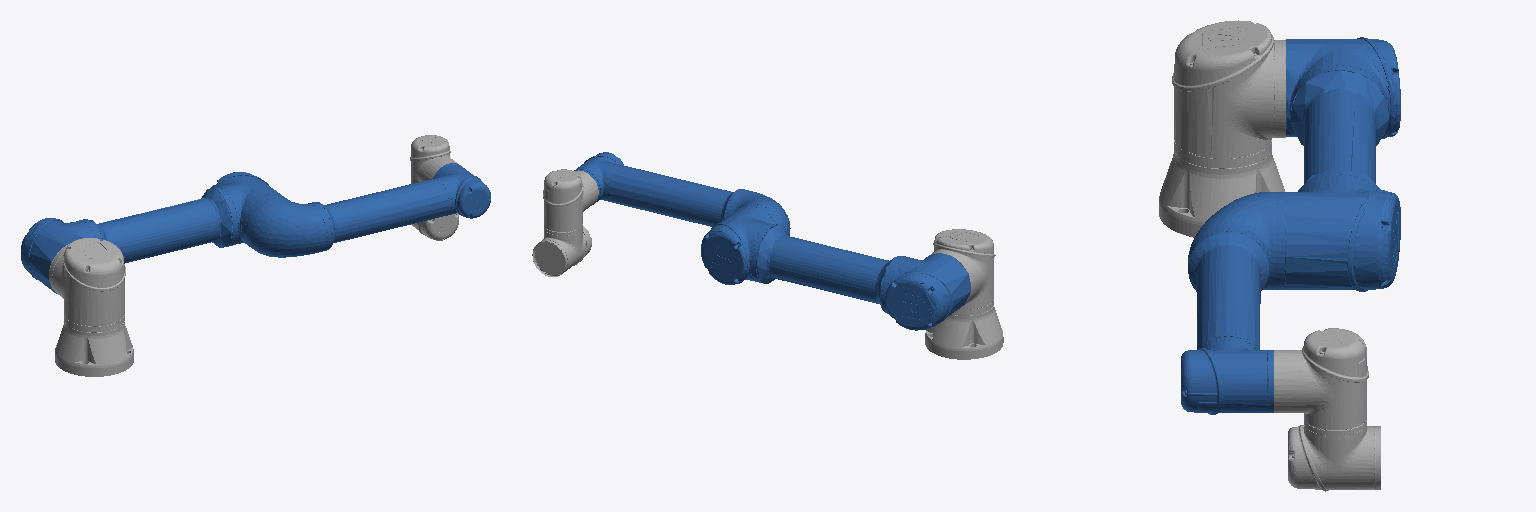
robot.urdf — ur5e:
<?xml version="1.0"?>
<!--
  UR5e for Electronics Playground (browser).
  Joint origins: UniversalRobots/Universal_Robots_ROS2_Description default_kinematics.yaml
  Mesh offsets: visual_parameters.yaml (official visual DAE to binary STL)
  License: BSD-3-Clause. See LICENSE.
-->
<robot name="ur5e">
  <material name="ur_grey"><color rgba="0.7 0.7 0.7 1"/></material>
  <material name="ur_blue"><color rgba="0.25 0.45 0.7 1"/></material>

  <link name="base_link"/>

  <link name="base_link_inertia">
    <visual>
      <origin xyz="0 0 0" rpy="0 0 3.141592653589793"/>
      <geometry><mesh filename="meshes/base.stl"/></geometry>
      <material name="ur_grey"/>
    </visual>
  </link>

  <joint name="base_link-base_link_inertia" type="fixed">
    <parent link="base_link"/>
    <child link="base_link_inertia"/>
    <origin xyz="0 0 0" rpy="0 0 3.141592653589793"/>
  </joint>

  <link name="shoulder_link">
    <visual>
      <origin xyz="0 0 0" rpy="0 0 3.141592653589793"/>
      <geometry><mesh filename="meshes/shoulder.stl"/></geometry>
      <material name="ur_grey"/>
    </visual>
  </link>

  <link name="upper_arm_link">
    <visual>
      <origin xyz="0 0 0.138" rpy="1.5707963267948966 0 -1.5707963267948966"/>
      <geometry><mesh filename="meshes/upperarm.stl"/></geometry>
      <material name="ur_blue"/>
    </visual>
  </link>

  <link name="forearm_link">
    <visual>
      <origin xyz="0 0 0.007" rpy="1.5707963267948966 0 -1.5707963267948966"/>
      <geometry><mesh filename="meshes/forearm.stl"/></geometry>
      <material name="ur_blue"/>
    </visual>
  </link>

  <link name="wrist_1_link">
    <visual>
      <origin xyz="0 0 -0.127" rpy="1.5707963267948966 0 0"/>
      <geometry><mesh filename="meshes/wrist1.stl"/></geometry>
      <material name="ur_grey"/>
    </visual>
  </link>

  <link name="wrist_2_link">
    <visual>
      <origin xyz="0 0 -0.0997" rpy="0 0 0"/>
      <geometry><mesh filename="meshes/wrist2.stl"/></geometry>
      <material name="ur_grey"/>
    </visual>
  </link>

  <link name="wrist_3_link">
    <visual>
      <origin xyz="0 -0.0005 -0.0989" rpy="1.5707963267948966 0 0"/>
      <geometry><mesh filename="meshes/wrist3.stl"/></geometry>
      <material name="ur_blue"/>
    </visual>
  </link>

  <link name="flange"/>
  <link name="tool0"/>

  <joint name="shoulder_pan_joint" type="revolute">
    <parent link="base_link_inertia"/>
    <child link="shoulder_link"/>
    <origin xyz="0 0 0.1625" rpy="0 0 0"/>
    <axis xyz="0 0 1"/>
    <limit lower="-6.28318530718" upper="6.28318530718" effort="150" velocity="3.14"/>
  </joint>

  <joint name="shoulder_lift_joint" type="revolute">
    <parent link="shoulder_link"/>
    <child link="upper_arm_link"/>
    <origin xyz="0 0 0" rpy="1.570796327 0 0"/>
    <axis xyz="0 0 1"/>
    <limit lower="-6.28318530718" upper="6.28318530718" effort="150" velocity="3.14"/>
  </joint>

  <joint name="elbow_joint" type="revolute">
    <parent link="upper_arm_link"/>
    <child link="forearm_link"/>
    <origin xyz="-0.425 0 0" rpy="0 0 0"/>
    <axis xyz="0 0 1"/>
    <limit lower="-3.14159265359" upper="3.14159265359" effort="150" velocity="3.14"/>
  </joint>

  <joint name="wrist_1_joint" type="revolute">
    <parent link="forearm_link"/>
    <child link="wrist_1_link"/>
    <origin xyz="-0.3922 0 0.1333" rpy="0 0 0"/>
    <axis xyz="0 0 1"/>
    <limit lower="-6.28318530718" upper="6.28318530718" effort="28" velocity="3.14"/>
  </joint>

  <joint name="wrist_2_joint" type="revolute">
    <parent link="wrist_1_link"/>
    <child link="wrist_2_link"/>
    <origin xyz="0 -0.0997 0" rpy="1.570796327 0 0"/>
    <axis xyz="0 0 1"/>
    <limit lower="-6.28318530718" upper="6.28318530718" effort="28" velocity="3.14"/>
  </joint>

  <joint name="wrist_3_joint" type="revolute">
    <parent link="wrist_2_link"/>
    <child link="wrist_3_link"/>
    <origin xyz="0 0.0996 0" rpy="1.570796326589793 3.141592653589793 3.141592653589793"/>
    <axis xyz="0 0 1"/>
    <limit lower="-6.28318530718" upper="6.28318530718" effort="28" velocity="3.14"/>
  </joint>

  <joint name="wrist_3_link-flange" type="fixed">
    <parent link="wrist_3_link"/>
    <child link="flange"/>
    <origin xyz="0 0 0" rpy="0 -1.5707963267948966 -1.5707963267948966"/>
  </joint>

  <joint name="flange-tool0" type="fixed">
    <parent link="flange"/>
    <child link="tool0"/>
    <origin xyz="0 0 0" rpy="1.5707963267948966 0 1.5707963267948966"/>
  </joint>
</robot>

--- Render facts (derived) ---
Views: 3 orthographic renders of the robot side by side, from view 1: azimuth 30°, elevation 25°; view 2: azimuth 150°, elevation 25°; view 3: azimuth 270°, elevation 25°.
Model ur5e with 10 links and 9 joints (6 revolute, 3 fixed), rooted at base_link, posed all joints at 0.
Visible links, largest first — view 1: forearm_link, upper_arm_link, shoulder_link, base_link_inertia, wrist_1_link, wrist_2_link; view 2: upper_arm_link, forearm_link, base_link_inertia, wrist_1_link, shoulder_link, wrist_2_link; view 3: upper_arm_link, forearm_link, shoulder_link, wrist_1_link, base_link_inertia, wrist_2_link.
Boxes of the visible links, bbox=[...] form: forearm_link: bbox=[245, 163, 490, 257]; upper_arm_link: bbox=[21, 172, 286, 293]; shoulder_link: bbox=[49, 238, 125, 325]; base_link_inertia: bbox=[55, 315, 133, 376]; wrist_1_link: bbox=[410, 135, 460, 183]; wrist_2_link: bbox=[411, 213, 458, 240]; upper_arm_link: bbox=[701, 204, 970, 330]; forearm_link: bbox=[574, 152, 790, 235]; base_link_inertia: bbox=[925, 300, 1003, 359]; wrist_1_link: bbox=[543, 169, 598, 235]; shoulder_link: bbox=[929, 229, 995, 309]; wrist_2_link: bbox=[532, 226, 591, 276]; upper_arm_link: bbox=[1274, 37, 1400, 291]; forearm_link: bbox=[1181, 192, 1273, 414]; shoulder_link: bbox=[1172, 20, 1285, 157]; wrist_1_link: bbox=[1274, 328, 1368, 435]; base_link_inertia: bbox=[1159, 140, 1284, 237]; wrist_2_link: bbox=[1288, 425, 1380, 491].
Bounding box of the posed robot: 0.932 × 0.2854 × 0.234 m (x, y, z).
6 mesh visuals loaded from 7 distinct referenced files (6 binary STL); not drawn: 1 (reference not matched to a file when rendering).
